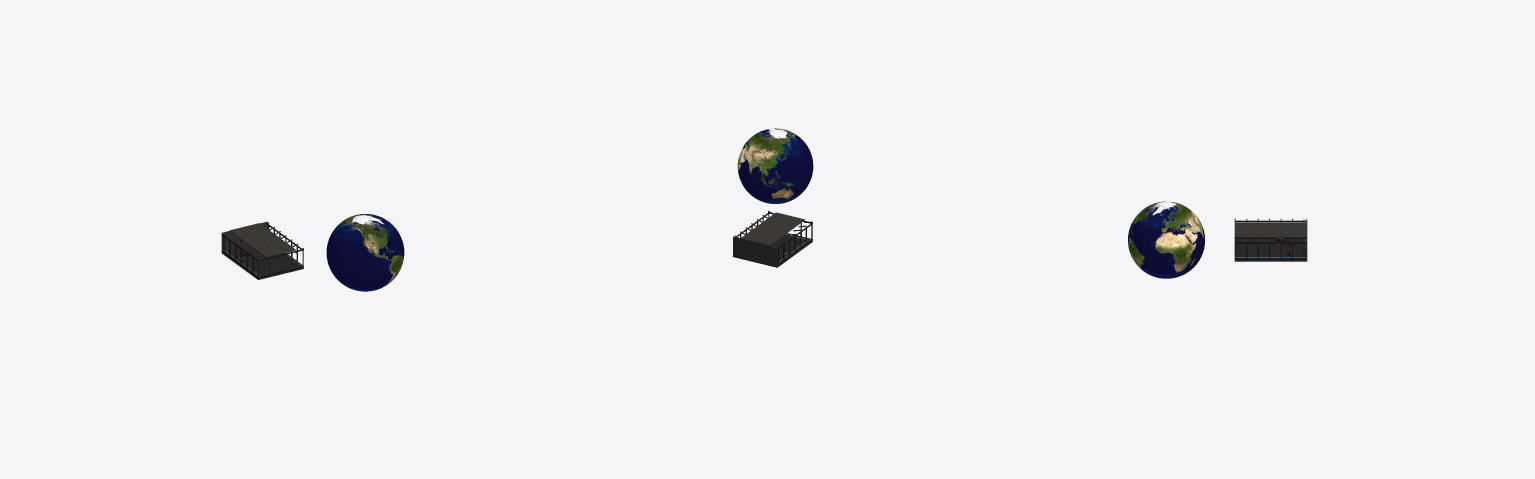
The model's file is orbital_lounge.glb.
3 views of the same model, side by side, from view 1: azimuth 30°, elevation 25°; view 2: azimuth 150°, elevation 25°; view 3: azimuth 270°, elevation 25° (orthographic). The views are drawn at different scales.
Parts seen in each view (by area): view 1: NASA Blue Marble Earth geometry, Satin Alloy Panels geometry, Textured Deck Plate geometry, Graphite Alloy Frames geometry; view 2: NASA Blue Marble Earth geometry, Satin Alloy Panels geometry, Graphite Alloy Frames geometry, Textured Deck Plate geometry; view 3: NASA Blue Marble Earth geometry, Satin Alloy Panels geometry, Textured Deck Plate geometry, Graphite Alloy Frames geometry.
Boxes of the visible parts, x1=… form: NASA Blue Marble Earth geometry: x1=326, y1=214, x2=404, y2=291; Satin Alloy Panels geometry: x1=221, y1=221, x2=303, y2=276; Textured Deck Plate geometry: x1=222, y1=246, x2=303, y2=279; Graphite Alloy Frames geometry: x1=222, y1=224, x2=303, y2=278; NASA Blue Marble Earth geometry: x1=737, y1=128, x2=813, y2=203; Satin Alloy Panels geometry: x1=733, y1=211, x2=812, y2=266; Graphite Alloy Frames geometry: x1=736, y1=212, x2=812, y2=265; Textured Deck Plate geometry: x1=732, y1=234, x2=812, y2=267; NASA Blue Marble Earth geometry: x1=1128, y1=201, x2=1204, y2=278; Satin Alloy Panels geometry: x1=1234, y1=218, x2=1307, y2=260; Textured Deck Plate geometry: x1=1234, y1=238, x2=1307, y2=261; Graphite Alloy Frames geometry: x1=1234, y1=220, x2=1306, y2=259.
Size of the model in its own units: 169 by 156 by 169.
Materials: 8 (5 with a texture image).
